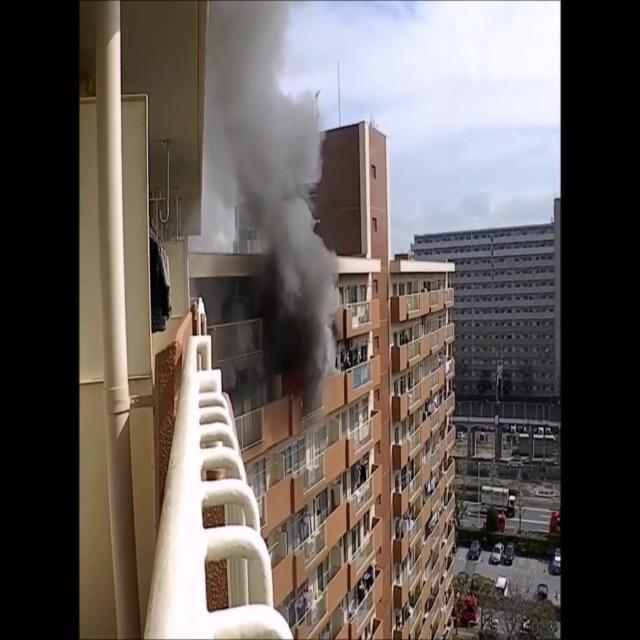Smoke: (192, 2, 342, 400)
